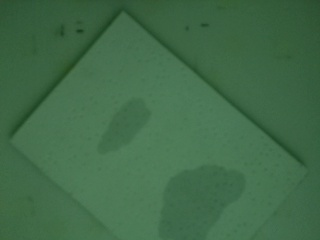Water_detected: (163, 176, 228, 231), (101, 103, 147, 153)
